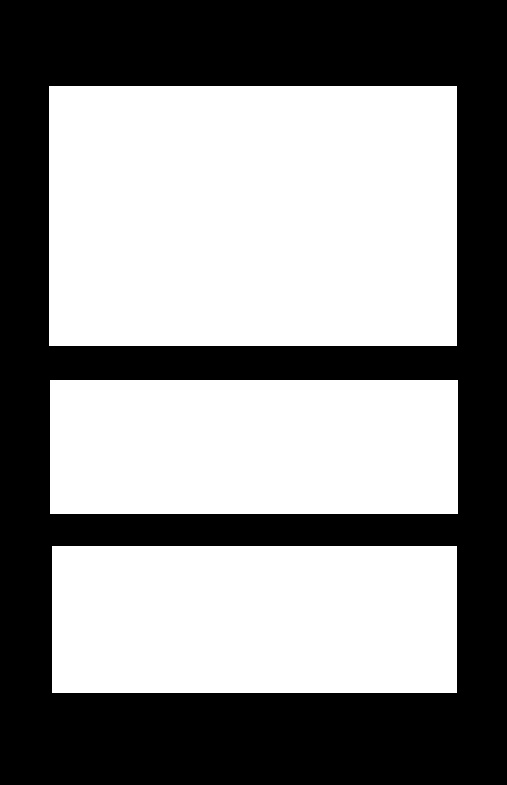table: (49, 86, 456, 345), (52, 546, 456, 692), (50, 380, 457, 513)
